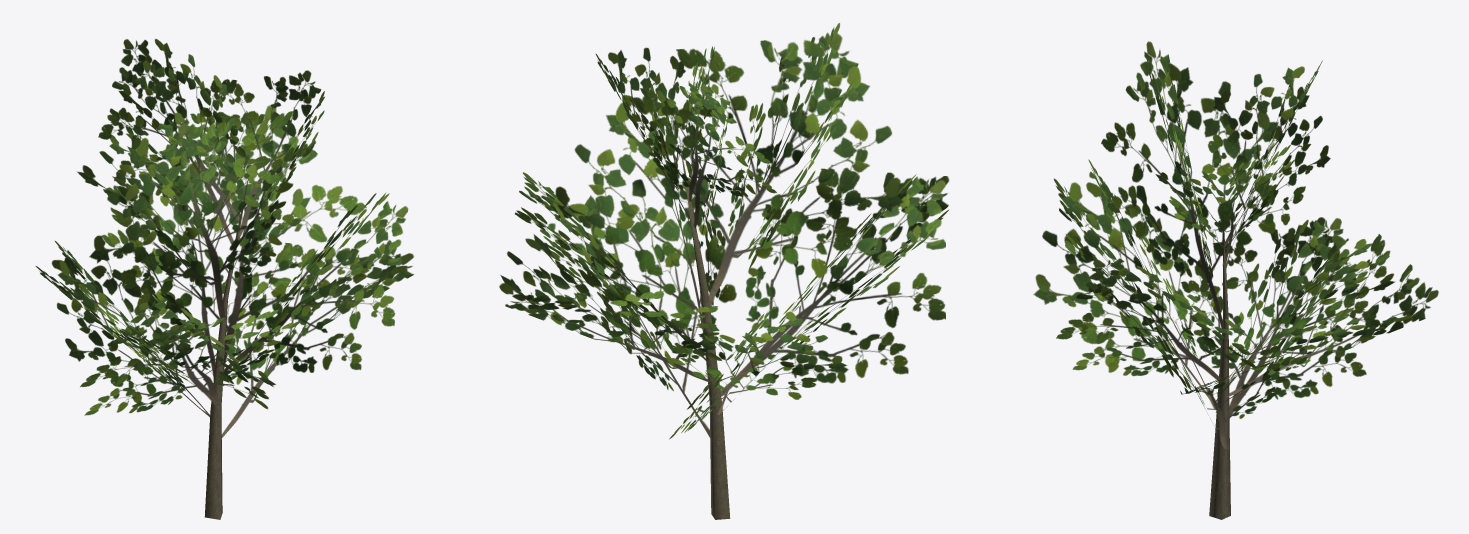
The picture shows the model from 3 angles, left to right: view 1: azimuth 30°, elevation 25°; view 2: azimuth 150°, elevation 25°; view 3: azimuth 270°, elevation 25°; orthographic projection. The views are drawn at different scales.
Parts seen in each view (by area): view 1: um_t1_pl010_model_t1_pl010_modelShape; view 2: um_t1_pl010_model_t1_pl010_modelShape; view 3: um_t1_pl010_model_t1_pl010_modelShape.
Boxes of the visible parts, x1,y1,x2,y2 form: um_t1_pl010_model_t1_pl010_modelShape: [35, 39, 413, 519]; um_t1_pl010_model_t1_pl010_modelShape: [499, 23, 949, 519]; um_t1_pl010_model_t1_pl010_modelShape: [1033, 41, 1438, 519].
Size of the model in its own units: 2.28 by 2.59 by 2.28.
Materials: 2 (2 with a texture image).
